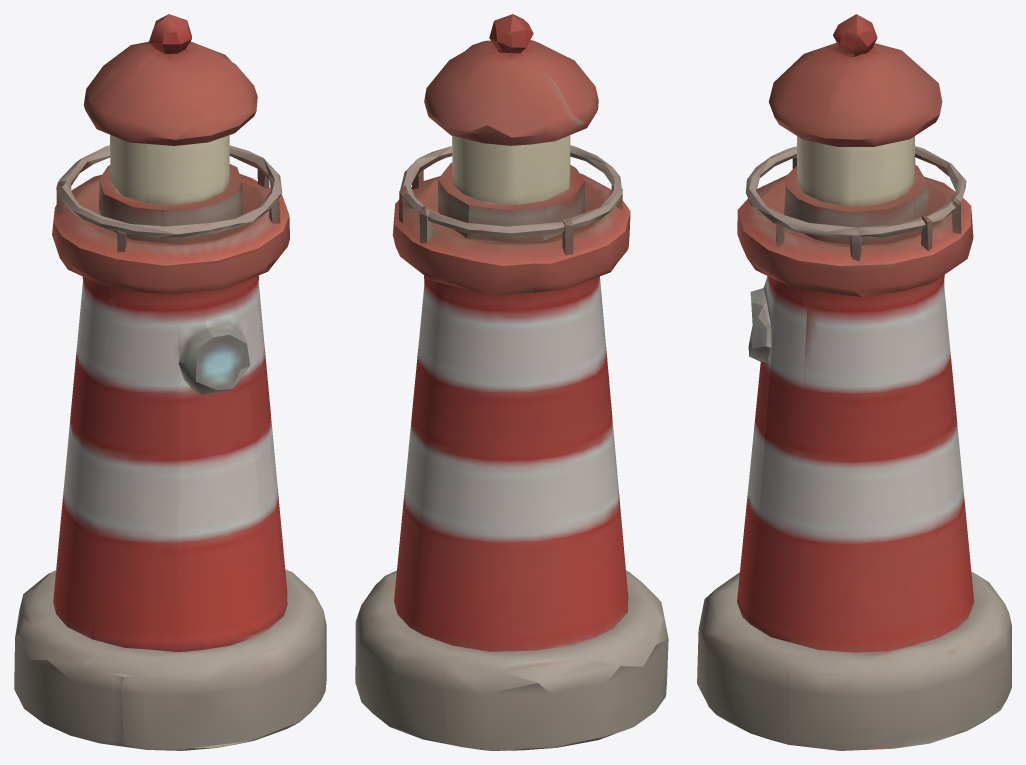
3 views of the same model, side by side, from view 1: azimuth 30°, elevation 25°; view 2: azimuth 150°, elevation 25°; view 3: azimuth 270°, elevation 25° (orthographic).
Visible parts, largest first — view 1: dengta-1; view 2: dengta-1; view 3: dengta-1.
Boxes of the visible parts, <box> form: dengta-1: <box>14,14,326,750</box>; dengta-1: <box>355,14,668,750</box>; dengta-1: <box>697,14,1011,750</box>.
Size of the model in its own units: 0.00815 by 0.0191 by 0.00813.
Materials: 1 (1 with a texture image).
